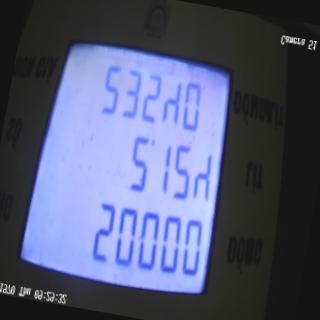screen: (7, 6, 254, 320)
